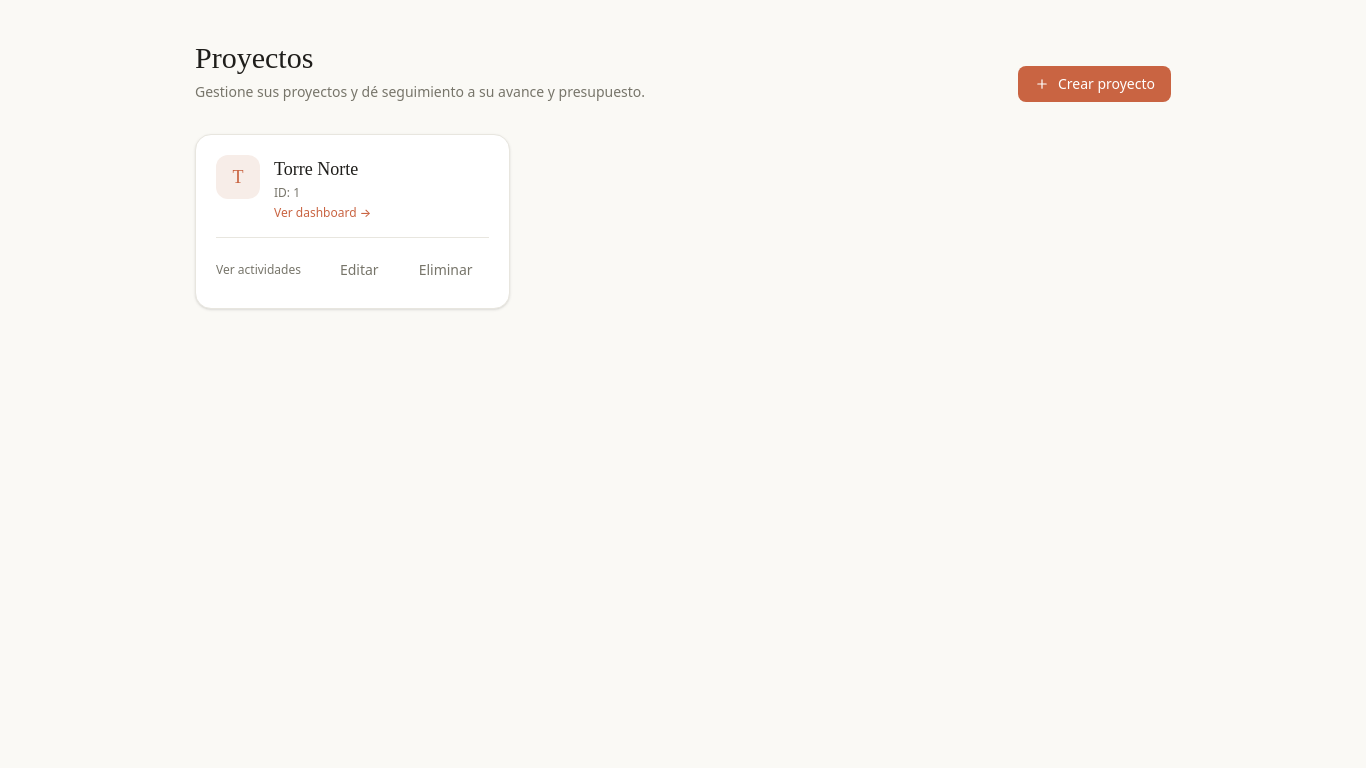
it: ProyectosListado › fetches the latest project data before opening the edit form
Expected: the heading "Torre Norte" is shown, [274,155,371,183]
What coordinates should you click on to do the following:
click the button "Editar"
I would click on:
 (359, 270)
Its box is [324,252,395,288].
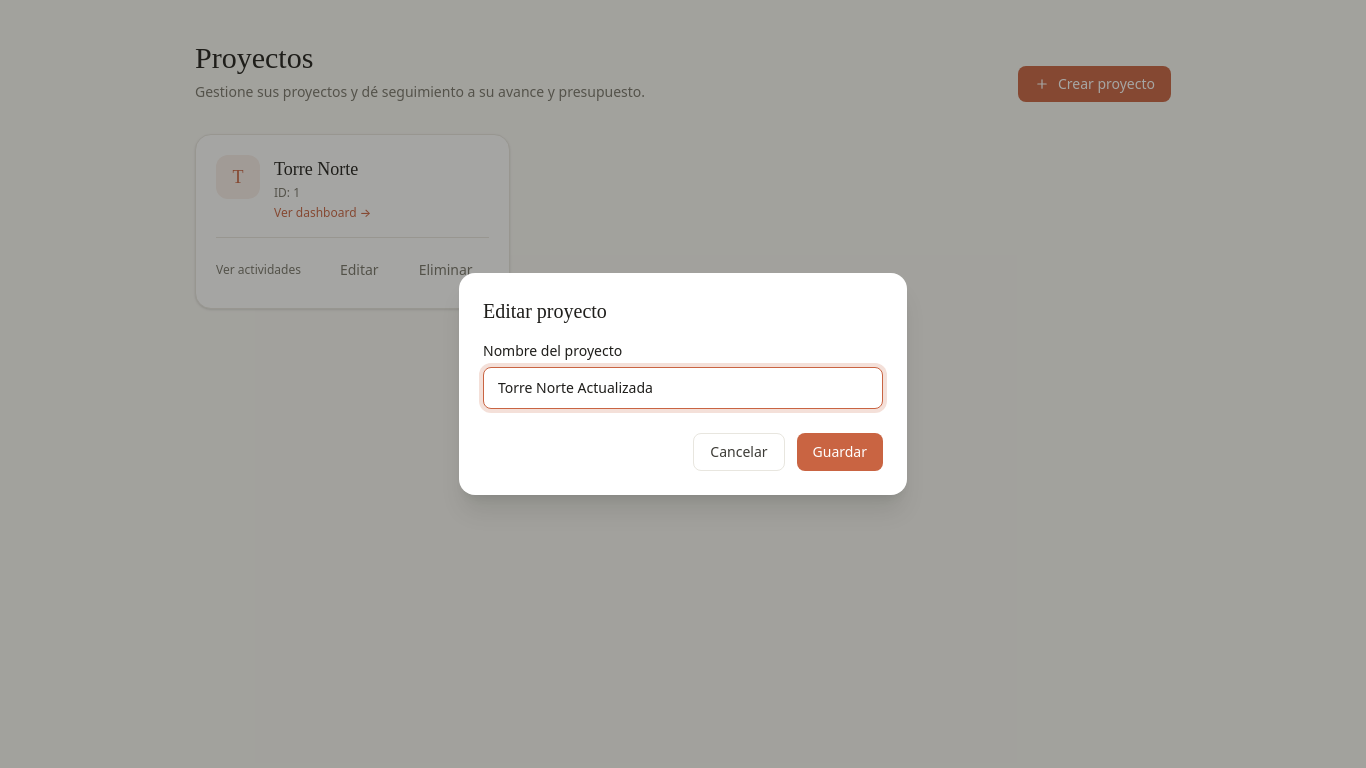
Expected: the field labelled "Nombre del proyecto" holds "Torre Norte Actualizada", [483,367,883,409]
